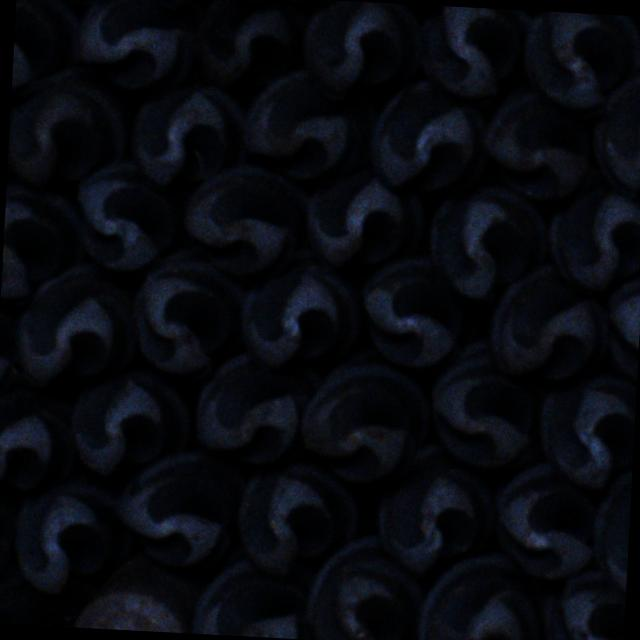tool_b: (298, 342, 436, 489), (425, 317, 545, 473), (113, 445, 250, 575), (12, 258, 142, 391), (242, 65, 380, 186), (129, 240, 248, 380), (376, 439, 496, 577), (237, 245, 364, 375), (10, 472, 136, 600), (234, 457, 360, 582), (180, 158, 308, 281), (426, 182, 552, 306), (486, 443, 597, 583), (489, 262, 614, 384), (7, 68, 132, 190), (368, 78, 492, 200), (195, 350, 322, 468), (478, 86, 600, 204), (70, 364, 194, 477), (301, 162, 426, 274), (132, 80, 252, 190), (304, 532, 426, 640), (536, 364, 638, 493), (357, 252, 468, 370), (299, 0, 424, 104), (72, 156, 179, 274), (188, 542, 316, 640), (544, 170, 640, 295), (521, 10, 640, 110), (415, 548, 541, 640), (73, 0, 196, 94), (191, 0, 304, 96), (415, 5, 526, 100), (1, 181, 84, 301), (0, 382, 80, 499), (11, 0, 82, 95), (590, 66, 640, 197), (539, 567, 627, 640)
